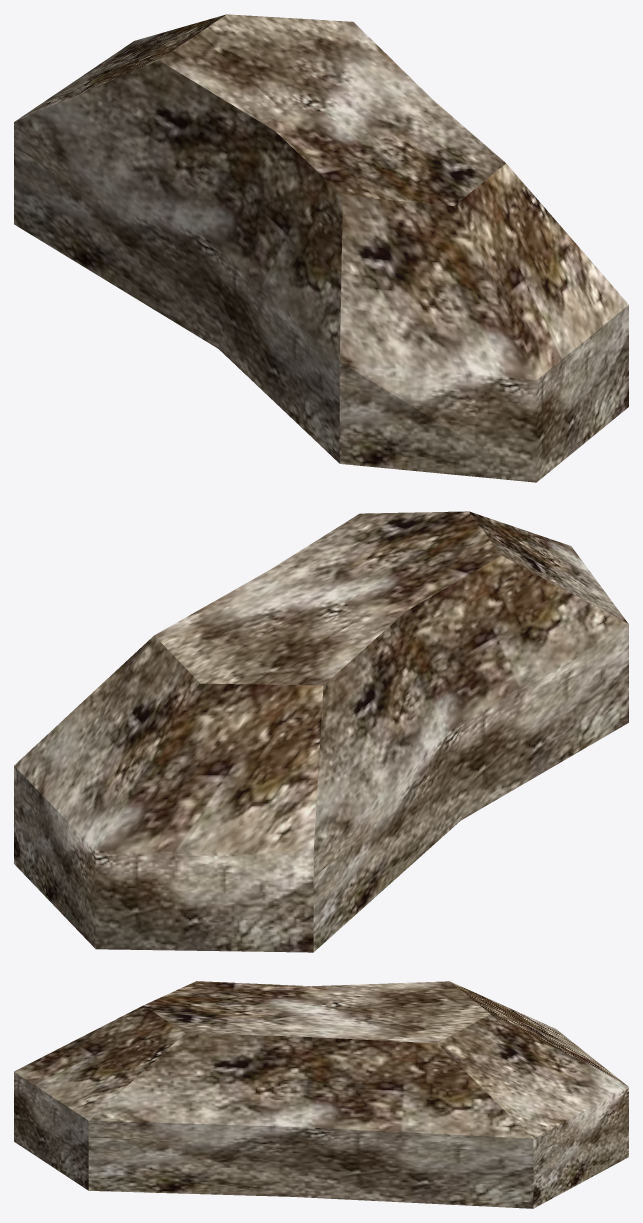
The model's file is tone01.obj.
The picture shows the model from 3 angles, top to bottom: view 1: azimuth 30°, elevation 25°; view 2: azimuth 150°, elevation 25°; view 3: azimuth 270°, elevation 25°; orthographic projection. The views are drawn at different scales.
Visible parts, largest first — view 1: tone01; view 2: tone01; view 3: tone01.
Boxes of the visible parts, <box> form: tone01: <box>14,14,628,482</box>; tone01: <box>14,511,628,952</box>; tone01: <box>14,981,628,1208</box>.
Bounding box in the file's own units: 40.73 × 24.18 × 96.09.
